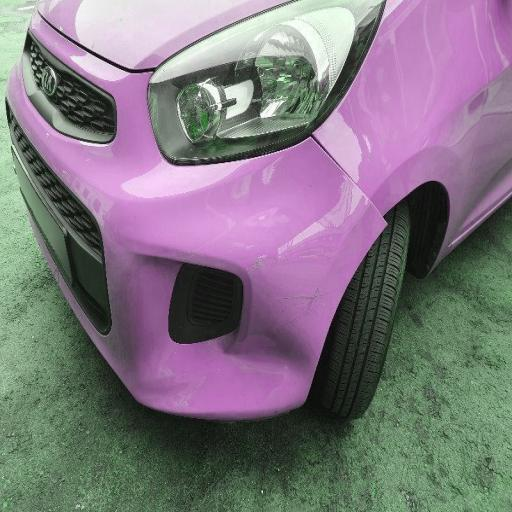scratch: (204, 97, 394, 304)
